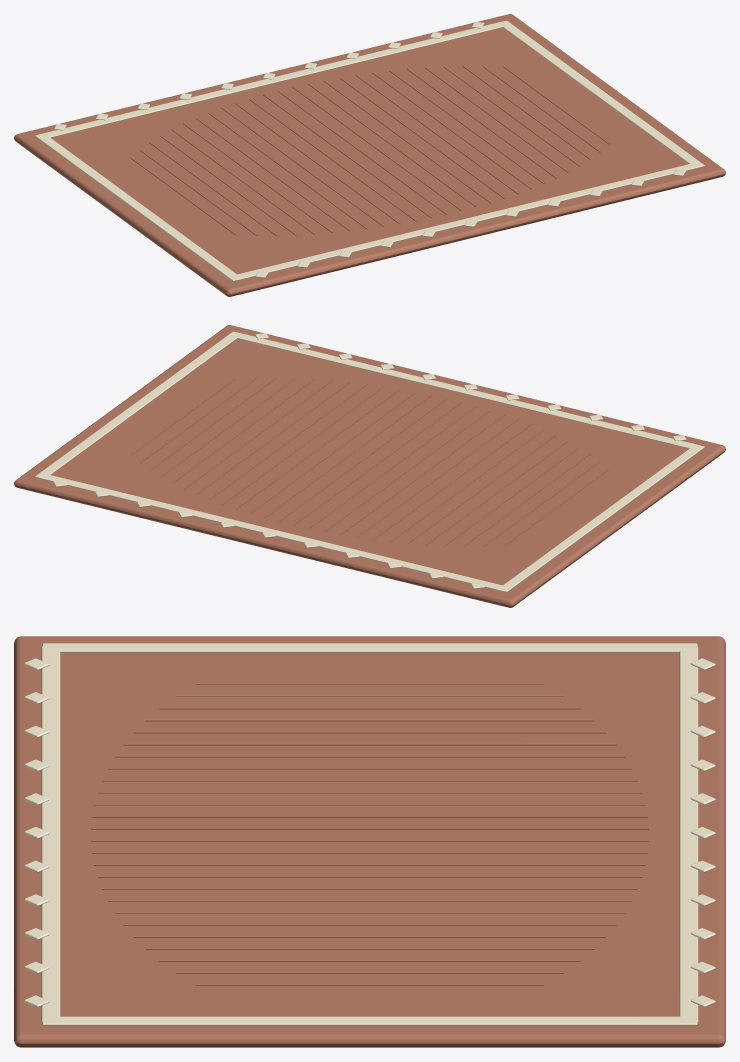
Rendered from classic-rug.glb.
3 renders of one model, top to bottom at view 1: azimuth 30°, elevation 25°; view 2: azimuth 150°, elevation 25°; view 3: azimuth 270°, elevation 25°, orthographic. The views are drawn at different scales.
Visible parts, largest first — view 1: Rug.002; view 2: Rug.002; view 3: Rug.002.
Part boxes in pixels (<box>): Rug.002: <box>14,14,725,296</box>; Rug.002: <box>14,325,725,607</box>; Rug.002: <box>14,636,725,1047</box>.
Bounding box in the file's own units: 3.35 × 0.065 × 2.5.
